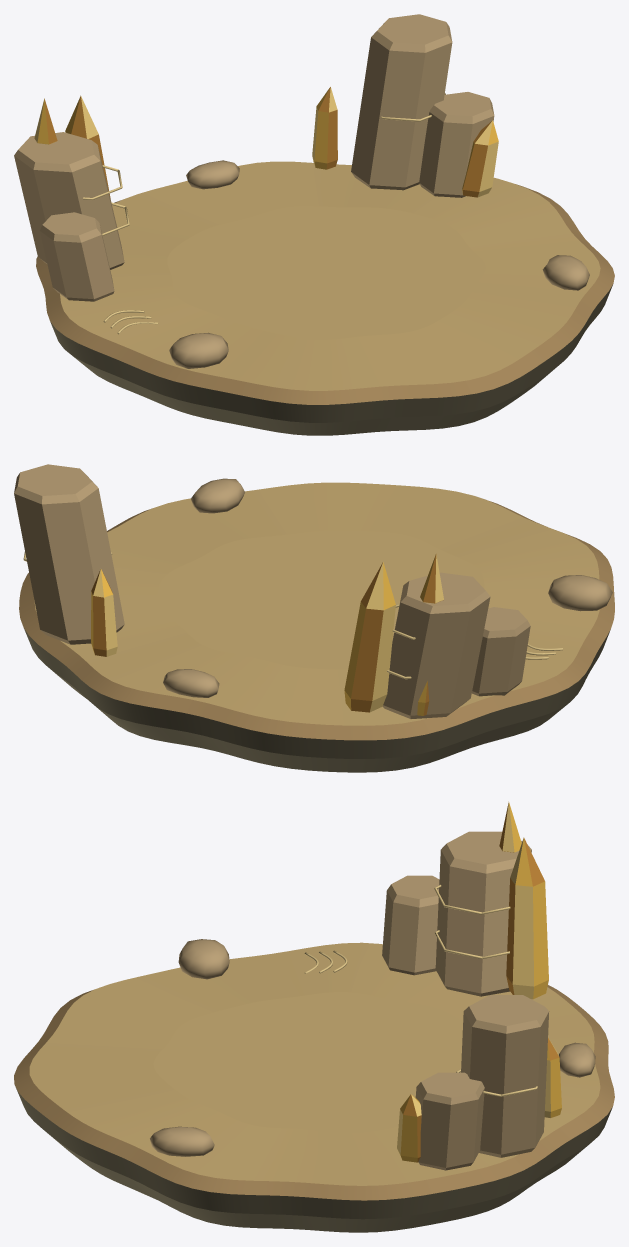
Rendered from storm.glb.
3 views of the same model, one above another, from view 1: azimuth 30°, elevation 25°; view 2: azimuth 150°, elevation 25°; view 3: azimuth 270°, elevation 25° (orthographic). The views are drawn at different scales.
Parts seen in each view (by area): view 1: Habitat_storm_storm_ochre.001, Habitat_storm_storm_windstone.001, Habitat_storm_storm_sandstone_base.001, Habitat_storm_storm_sandstone_edge.001, Habitat_storm_storm_amber_shade.001, Habitat_storm_storm_amber_glint.001, Habitat_storm_storm_amber_gold.001, Habitat_storm_storm_mineral_seam.001; view 2: Habitat_storm_storm_ochre.001, Habitat_storm_storm_windstone.001, Habitat_storm_storm_sandstone_base.001, Habitat_storm_storm_sandstone_edge.001, Habitat_storm_storm_amber_shade.001, Habitat_storm_storm_amber_glint.001, Habitat_storm_storm_amber_gold.001, Habitat_storm_storm_mineral_seam.001; view 3: Habitat_storm_storm_ochre.001, Habitat_storm_storm_windstone.001, Habitat_storm_storm_sandstone_base.001, Habitat_storm_storm_sandstone_edge.001, Habitat_storm_storm_amber_gold.001, Habitat_storm_storm_amber_glint.001, Habitat_storm_storm_amber_shade.001, Habitat_storm_storm_mineral_seam.001.
Boxes of the visible parts, <box> form: Habitat_storm_storm_ochre.001: <box>60,161,600,390</box>; Habitat_storm_storm_windstone.001: <box>14,14,589,368</box>; Habitat_storm_storm_sandstone_base.001: <box>50,285,612,435</box>; Habitat_storm_storm_sandstone_edge.001: <box>36,184,614,404</box>; Habitat_storm_storm_amber_shade.001: <box>44,87,491,198</box>; Habitat_storm_storm_amber_glint.001: <box>34,87,498,197</box>; Habitat_storm_storm_amber_gold.001: <box>37,88,498,192</box>; Habitat_storm_storm_mineral_seam.001: <box>83,93,445,334</box>; Habitat_storm_storm_ochre.001: <box>34,482,599,725</box>; Habitat_storm_storm_windstone.001: <box>14,464,612,718</box>; Habitat_storm_storm_sandstone_base.001: <box>24,628,610,772</box>; Habitat_storm_storm_sandstone_edge.001: <box>19,499,614,740</box>; Habitat_storm_storm_amber_shade.001: <box>91,554,443,715</box>; Habitat_storm_storm_amber_glint.001: <box>93,554,443,712</box>; Habitat_storm_storm_amber_gold.001: <box>91,554,435,715</box>; Habitat_storm_storm_mineral_seam.001: <box>23,552,562,679</box>; Habitat_storm_storm_ochre.001: <box>29,942,600,1185</box>; Habitat_storm_storm_windstone.001: <box>150,831,595,1170</box>; Habitat_storm_storm_sandstone_base.001: <box>15,1087,612,1232</box>; Habitat_storm_storm_sandstone_edge.001: <box>14,985,614,1200</box>; Habitat_storm_storm_amber_gold.001: <box>400,802,561,1162</box>; Habitat_storm_storm_amber_glint.001: <box>397,801,558,1158</box>; Habitat_storm_storm_amber_shade.001: <box>403,803,559,1162</box>; Habitat_storm_storm_mineral_seam.001: <box>304,884,537,1096</box>.
Bounding box in the file's own units: 6.35 × 2.58 × 6.3.
